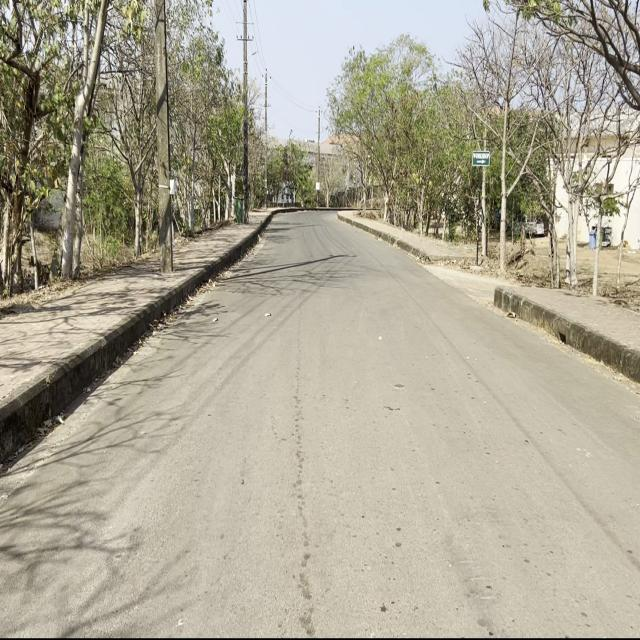Road: (5, 211, 637, 631)
